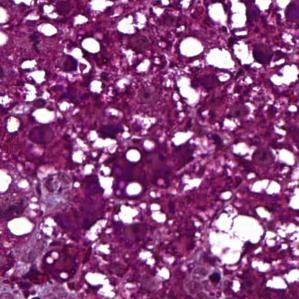ballooning: (207, 208, 268, 269)
